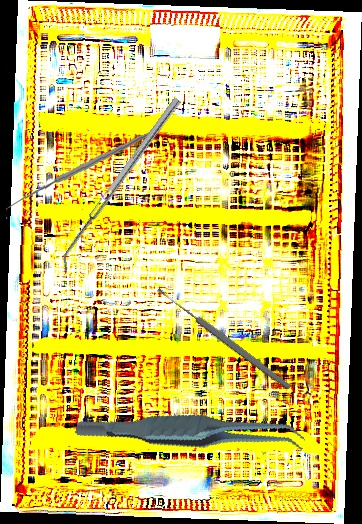Hook Surgical: (5, 117, 162, 227)
Spatula Surgical: (54, 97, 187, 272)
Surgical Spoon: (155, 285, 293, 392)
Tissue Forceps: (74, 371, 308, 494)
